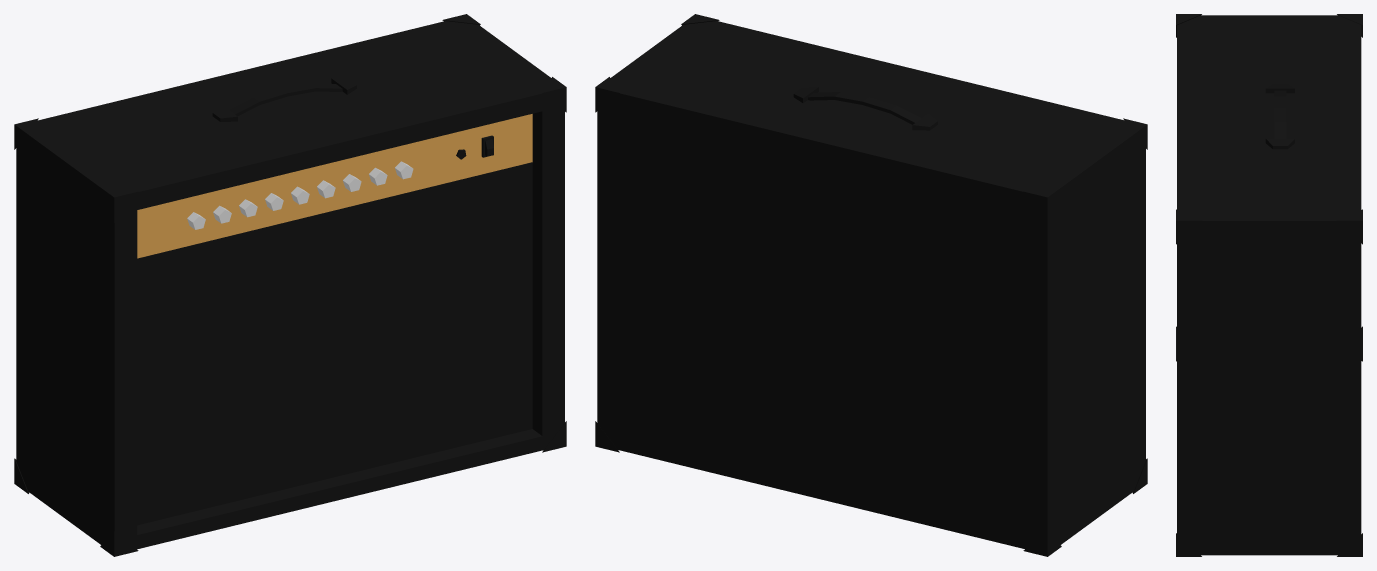
File: AmpliGuitare.fbx
3 views of the same model, side by side, from view 1: azimuth 30°, elevation 25°; view 2: azimuth 150°, elevation 25°; view 3: azimuth 270°, elevation 25° (orthographic). The views are drawn at different scales.
Parts seen in each view (by area): view 1: AmpliGuitare; view 2: AmpliGuitare; view 3: AmpliGuitare.
Part boxes in pixels (bbox=[...]): AmpliGuitare: bbox=[14, 14, 566, 556]; AmpliGuitare: bbox=[595, 14, 1147, 556]; AmpliGuitare: bbox=[1176, 14, 1362, 556].
Size of the model in its own units: 66.3 by 51.84 by 25.35.
